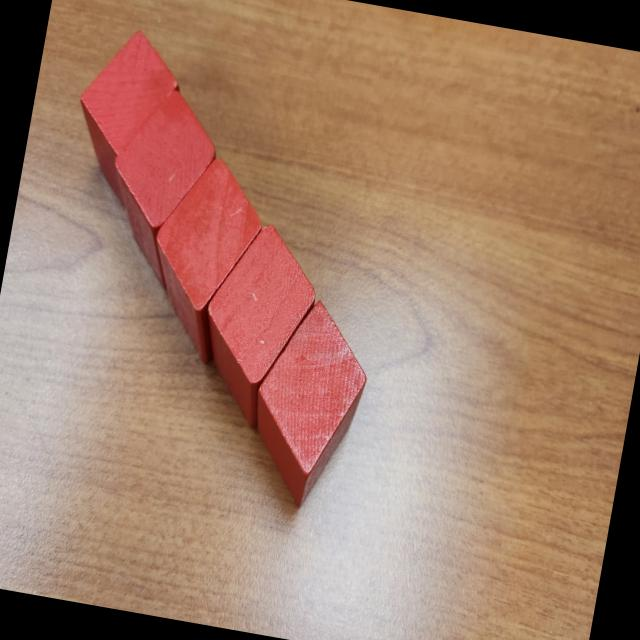red: (238, 293, 378, 516), (186, 216, 326, 437), (136, 148, 272, 370), (93, 83, 224, 294), (63, 21, 190, 212)
